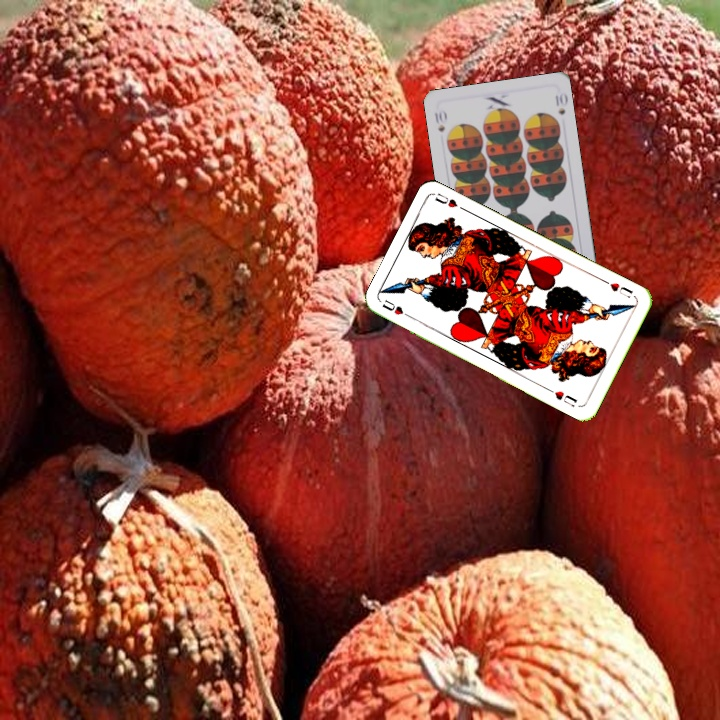HU: (378, 295, 415, 321), (600, 276, 635, 300)
S10: (431, 106, 448, 135)
